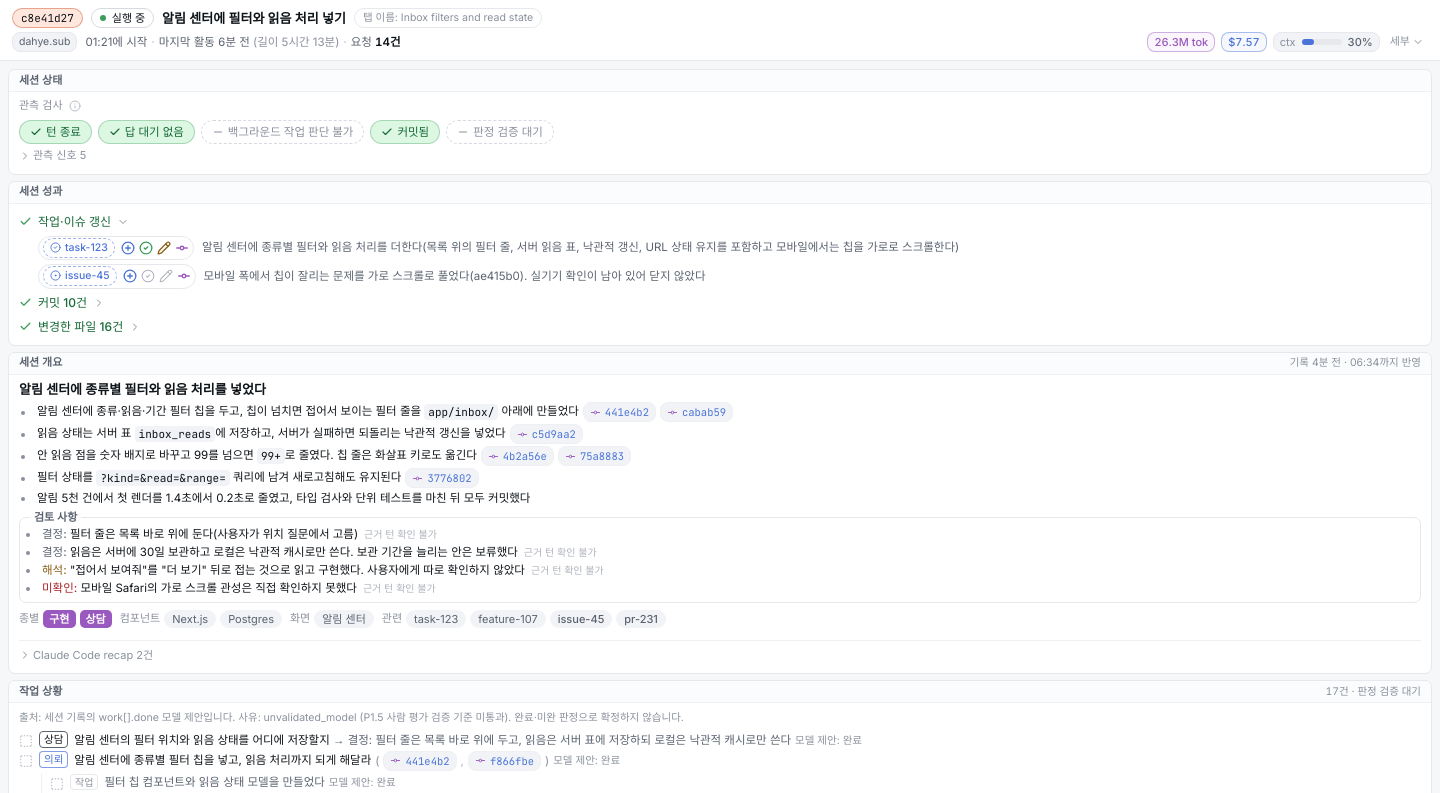
it: 세션 성과: 세 줄을 펼치고 접는다 › 해시를 모르는 커밋은 "해시 불명" 줄로 그린다
Click the button "커밋 10건": [63, 302] box top-left (19, 293), bottom-right (1421, 313)
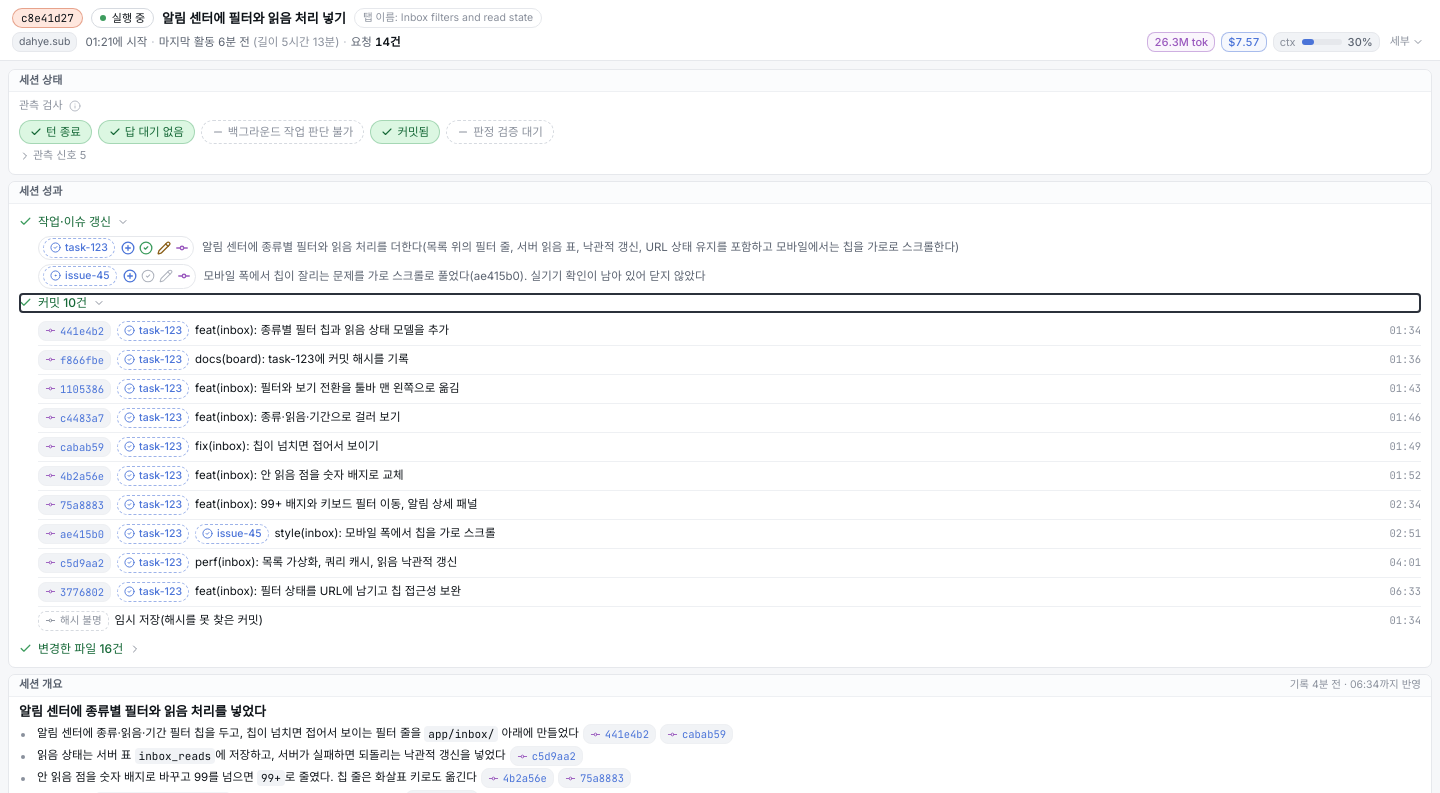
Check: the text "해시 불명" is shown, box top-left (38, 611), bottom-right (109, 631)
Check: the text "임시 저장(해시를 못 찾은 커밋)" is shown, box top-left (115, 613), bottom-right (263, 627)
